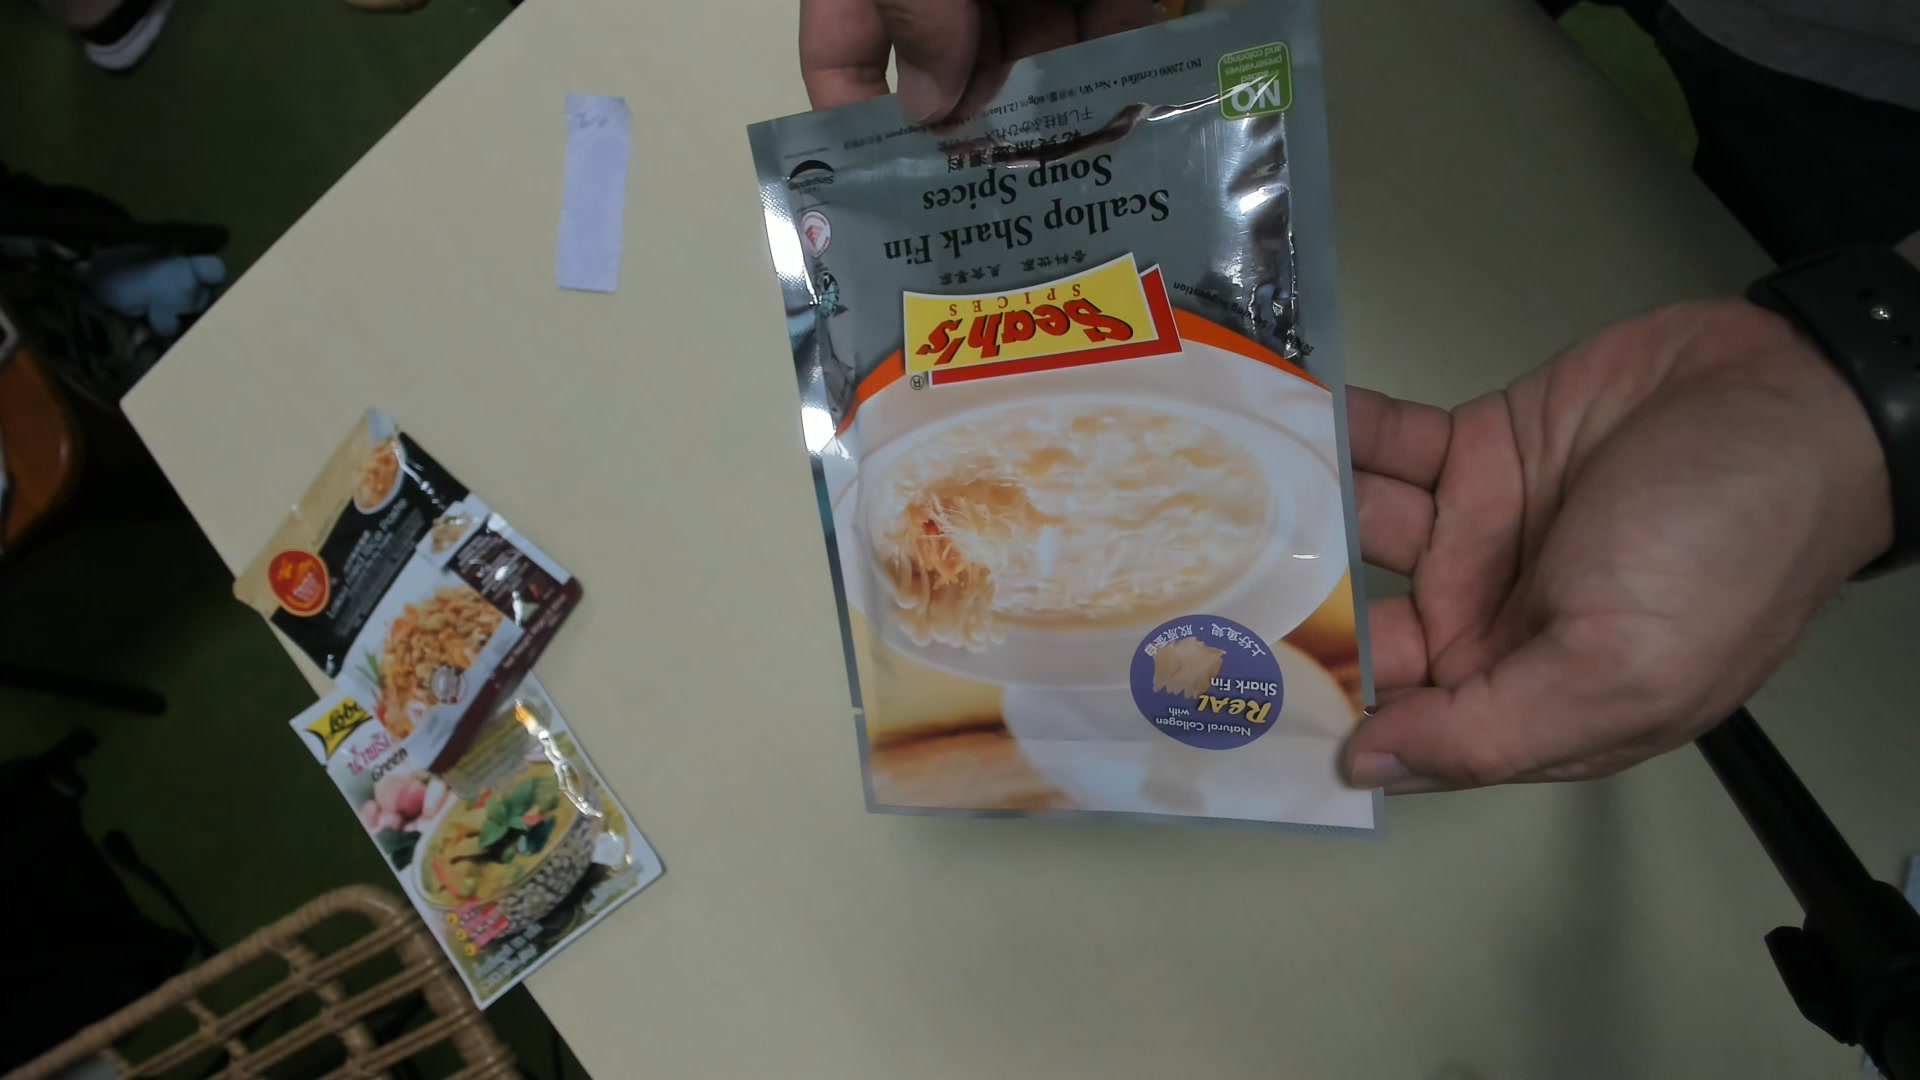OtherSauceDressing_0-99g_Halal_NonHealthy: (742, 5, 1387, 847)
